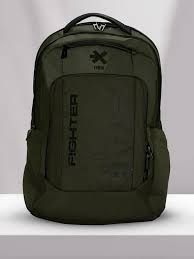backpack: (22, 12, 170, 224)
